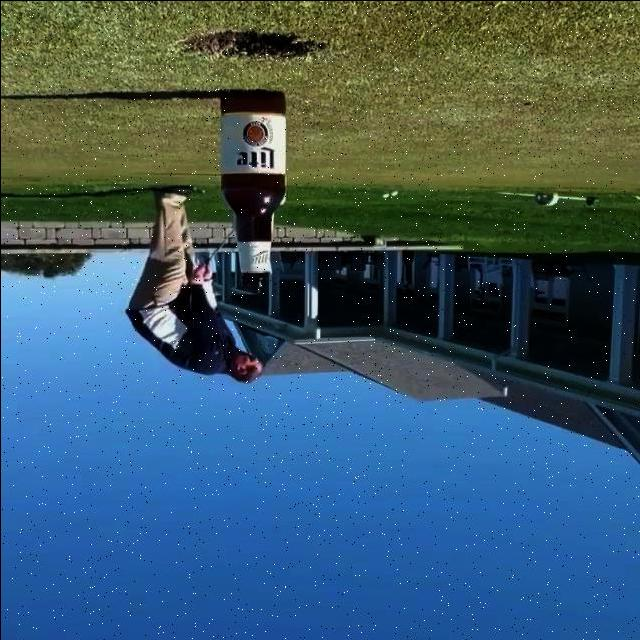golf ball: (381, 192, 388, 198), (389, 190, 397, 195)
golf club-handle: (204, 228, 234, 265)
